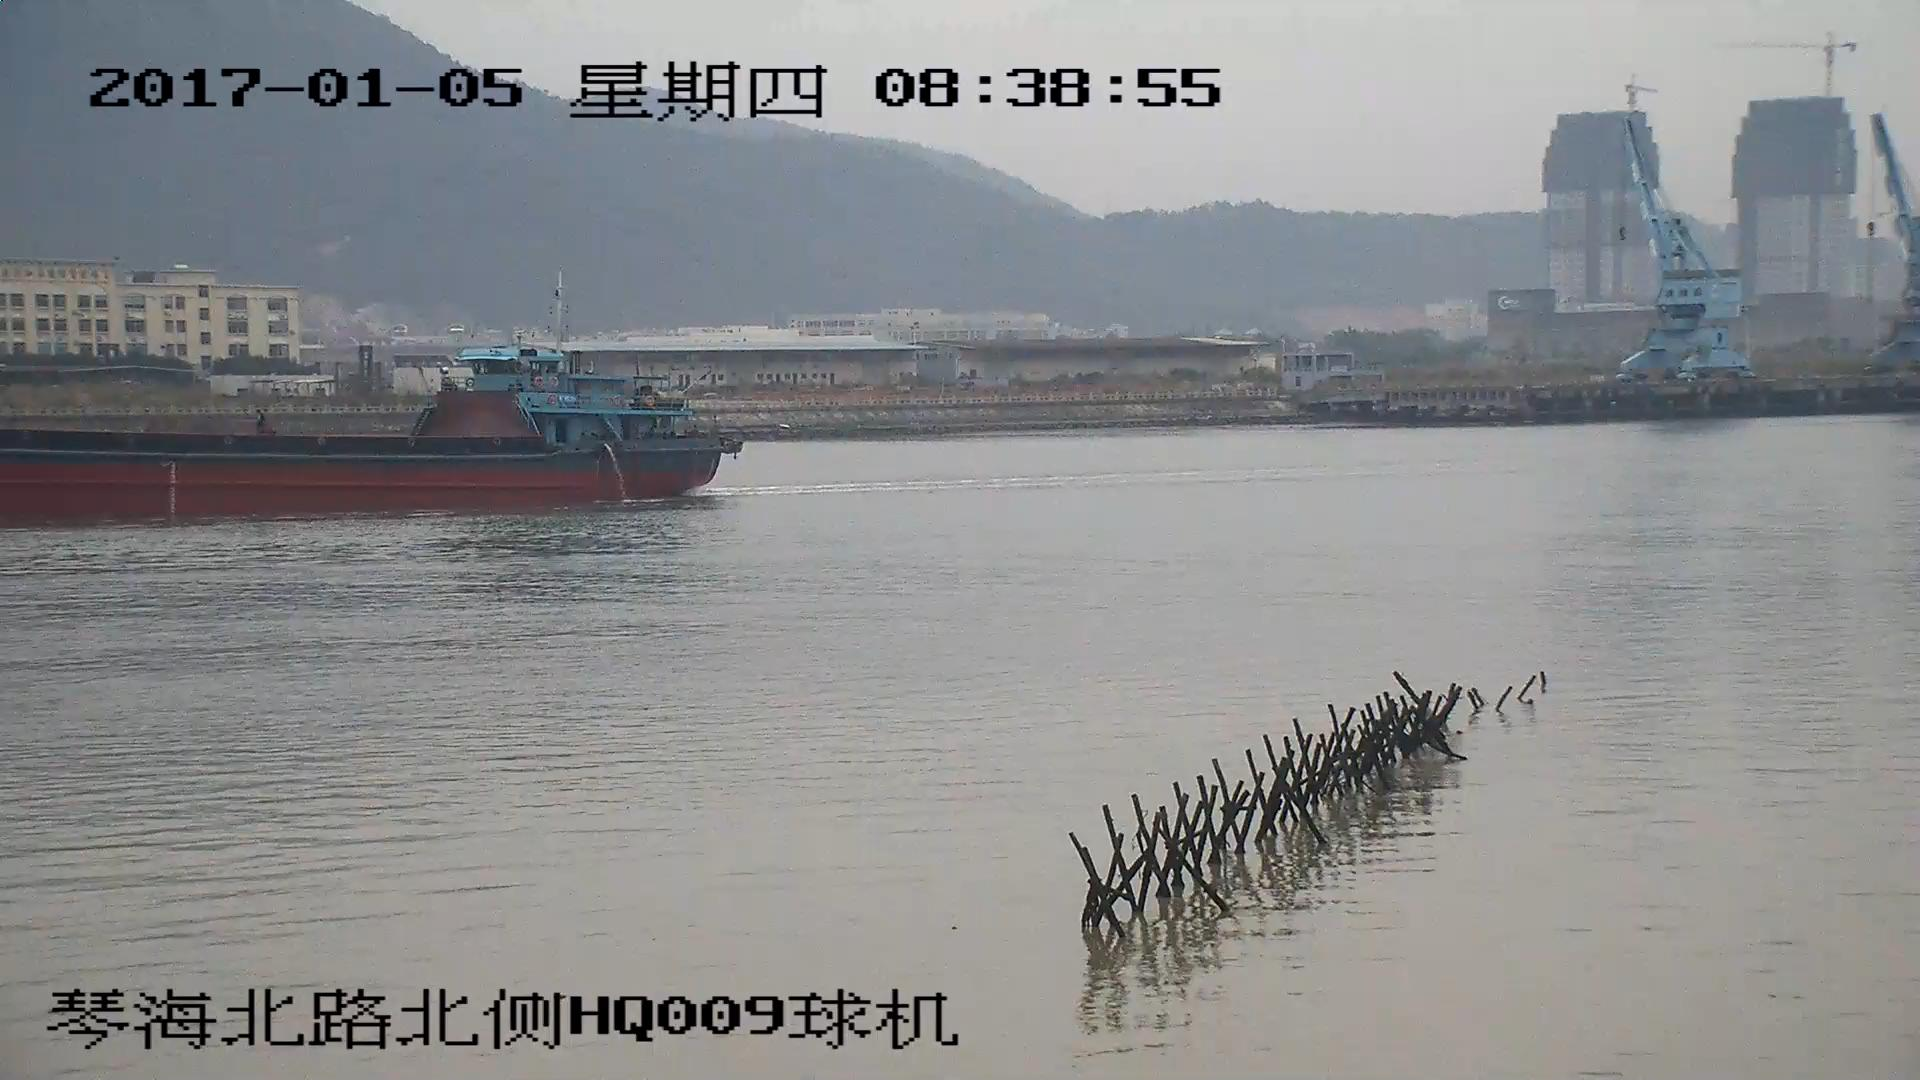bulk cargo carrier: (1, 344, 753, 514)
